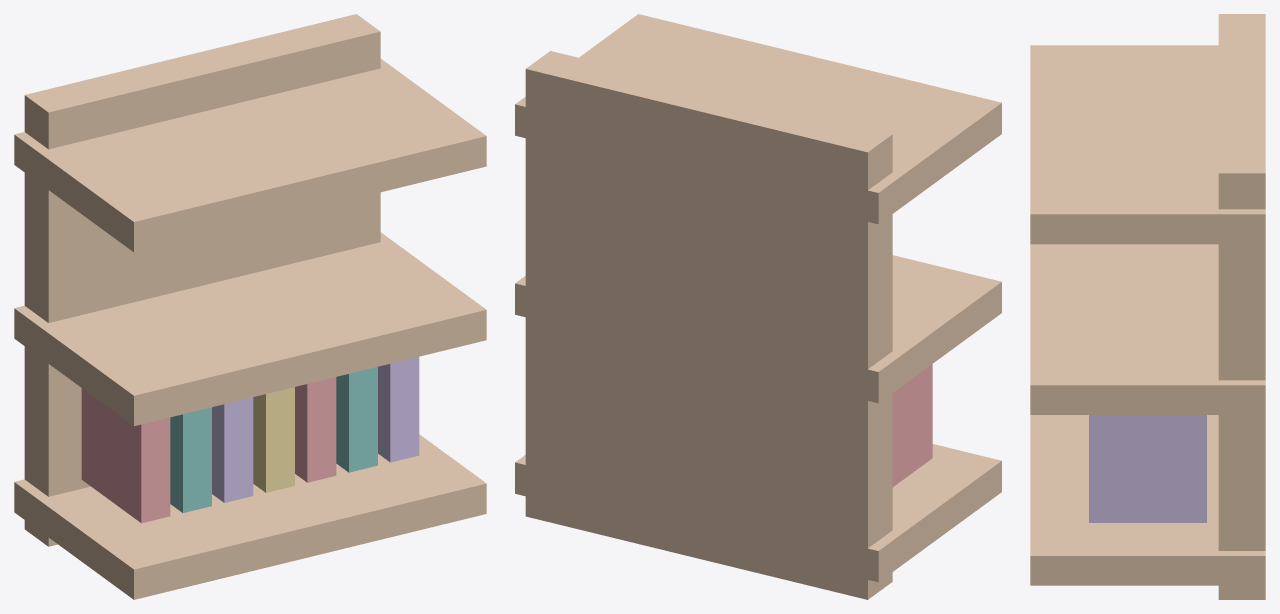
The model's file is bookshelf.glb.
3 views of the same model, side by side, from view 1: azimuth 30°, elevation 25°; view 2: azimuth 150°, elevation 25°; view 3: azimuth 270°, elevation 25° (orthographic). The views are drawn at different scales.
Parts seen in each view (by area): view 1: back, shelf1, shelf2, shelf0, book0, book2, book4, book6, book3, book5, book1; view 2: back, shelf2, shelf1, shelf0, book0; view 3: shelf2, shelf1, back, shelf0, book6.
Boxes of the visible parts, bbox=[...] form: back: bbox=[24, 14, 380, 546]; shelf1: bbox=[14, 232, 486, 425]; shelf2: bbox=[14, 59, 486, 252]; shelf0: bbox=[14, 434, 486, 599]; book0: bbox=[81, 388, 170, 523]; book2: bbox=[212, 397, 253, 502]; book4: bbox=[295, 377, 336, 482]; book6: bbox=[378, 357, 419, 462]; book3: bbox=[253, 387, 294, 492]; book5: bbox=[336, 367, 377, 472]; book1: bbox=[170, 407, 211, 512]; back: bbox=[525, 51, 892, 599]; shelf2: bbox=[515, 14, 1001, 224]; shelf1: bbox=[515, 255, 1001, 403]; shelf0: bbox=[515, 444, 1001, 582]; book0: bbox=[892, 364, 932, 486]; shelf2: bbox=[1030, 45, 1265, 244]; shelf1: bbox=[1030, 244, 1265, 414]; back: bbox=[1218, 14, 1265, 599]; shelf0: bbox=[1030, 415, 1265, 585]; book6: bbox=[1089, 415, 1206, 522].
Size of the model in its own units: 0.85 by 1 by 0.5.
